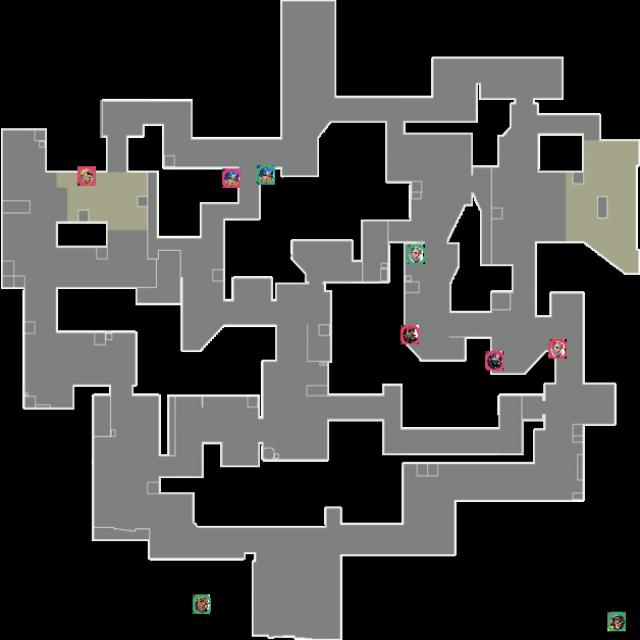atk_gekko: (77, 166, 96, 186)
atk_harbor: (400, 325, 419, 344)
atk_neon: (222, 168, 241, 188)
atk_sova: (548, 339, 567, 359)
atk_viper: (485, 351, 504, 370)
def_killjoy: (607, 612, 626, 631)
def_neon: (257, 165, 275, 185)
def_raze: (193, 594, 211, 614)
def_sova: (407, 245, 425, 264)
